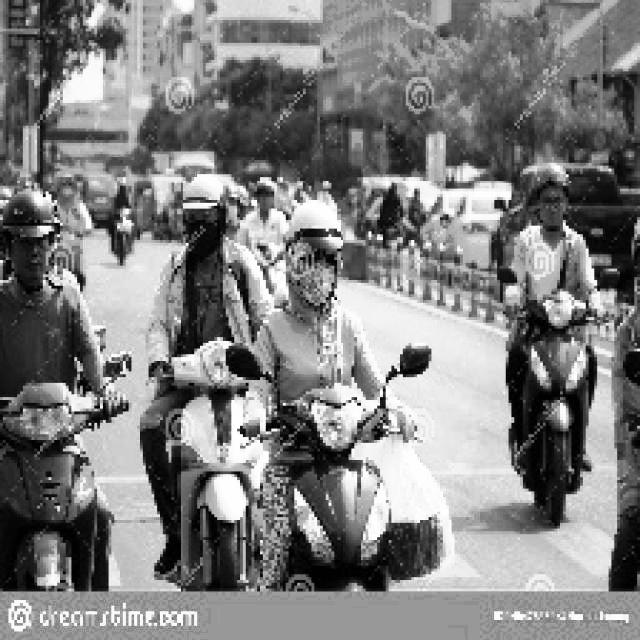Bike: (259, 360, 411, 585), (149, 343, 274, 599), (489, 270, 597, 506), (4, 388, 114, 613)
